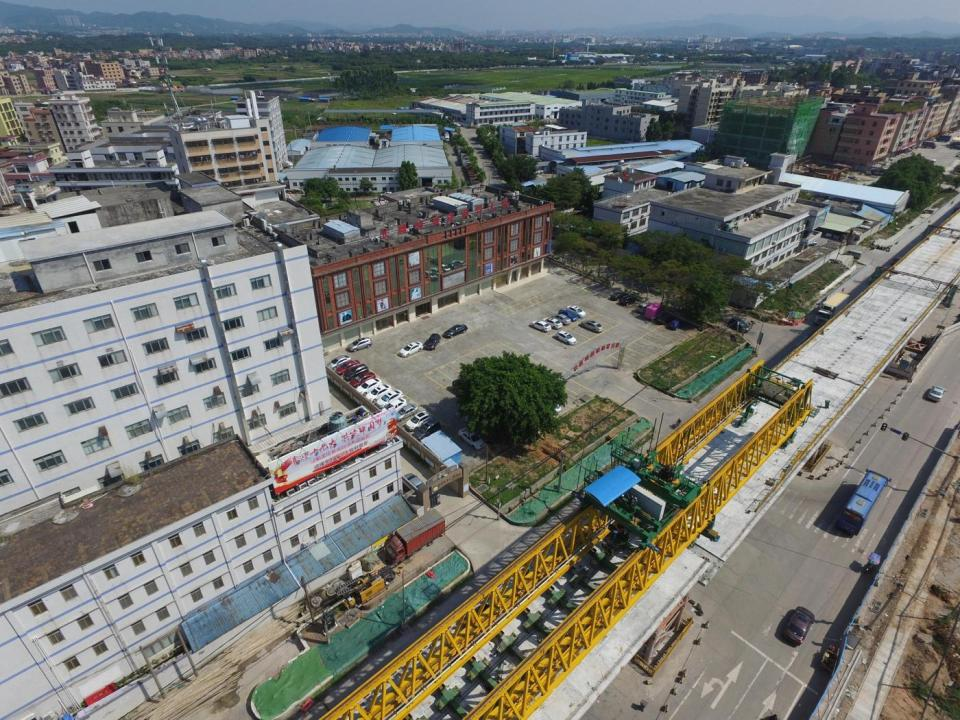bus: (835, 468, 892, 536)
car: (783, 606, 815, 647), (414, 418, 440, 442), (458, 427, 485, 450), (405, 411, 430, 431), (343, 364, 369, 382), (366, 384, 392, 402), (376, 390, 402, 408), (356, 378, 383, 395), (394, 404, 419, 422), (404, 472, 426, 491), (350, 372, 376, 388), (382, 398, 406, 415), (398, 341, 423, 357), (327, 355, 353, 370), (335, 360, 361, 375), (348, 336, 372, 352), (443, 324, 468, 339), (555, 330, 577, 345), (928, 385, 946, 402), (424, 334, 441, 350), (581, 320, 603, 332), (566, 305, 586, 318), (531, 320, 551, 332), (559, 309, 578, 321), (543, 318, 562, 329), (620, 295, 638, 306), (668, 319, 686, 330), (552, 314, 571, 324), (611, 292, 630, 300)
truck: (385, 509, 445, 564), (814, 291, 850, 326), (644, 302, 664, 320)
van: (728, 318, 750, 332), (637, 302, 654, 313), (843, 250, 862, 259)
